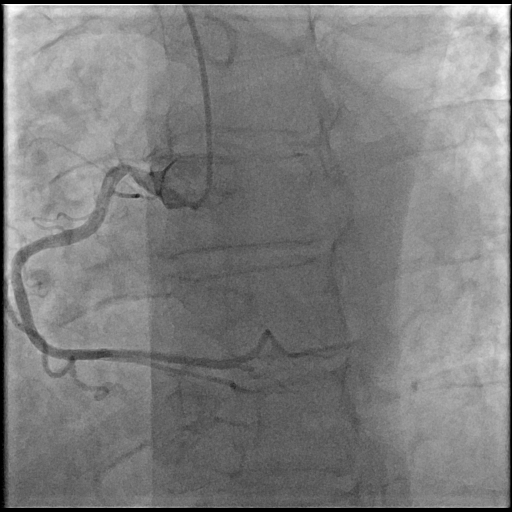RCA: (9, 162, 222, 367)
catherter: (184, 6, 213, 207)
